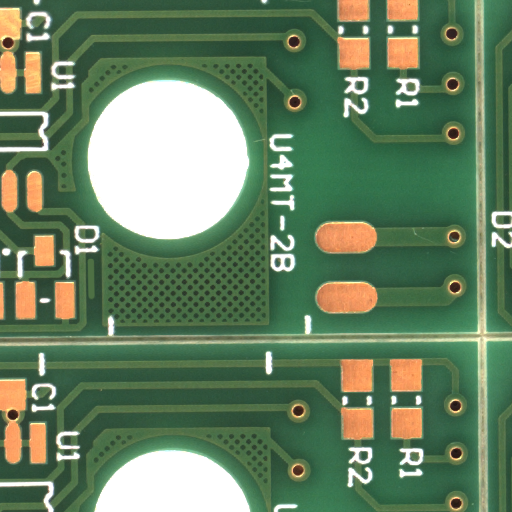Spurious_copper: (91, 279, 100, 318)
